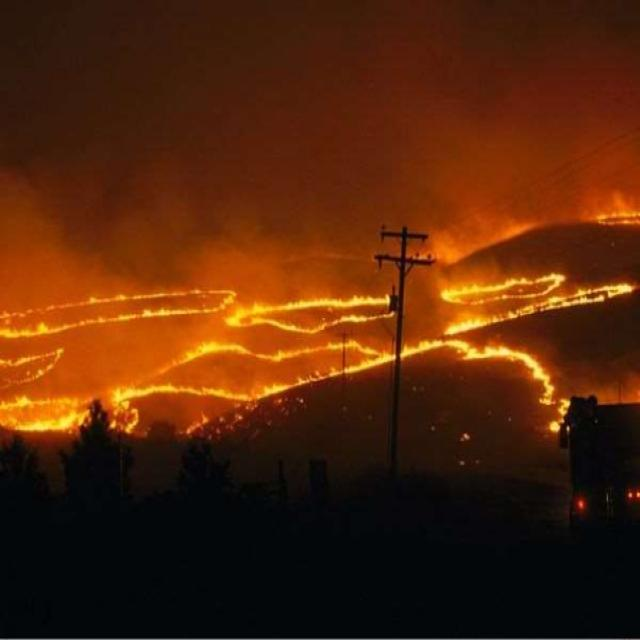Fire: (449, 270, 638, 336), (1, 284, 241, 329), (476, 327, 570, 428), (98, 373, 254, 429), (162, 330, 384, 368), (233, 291, 390, 333), (1, 392, 101, 442), (441, 266, 561, 305), (0, 336, 66, 394), (394, 328, 482, 364)
Smoke: (4, 0, 636, 221)
